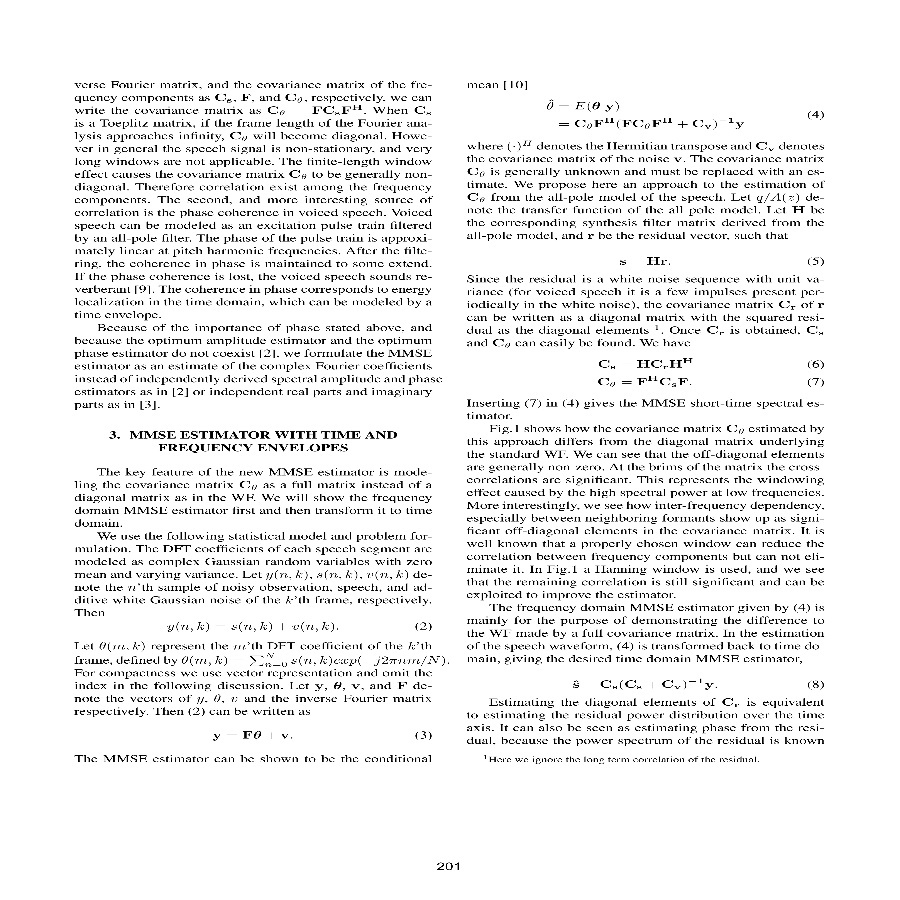eq: (544, 97, 748, 138), (158, 610, 337, 636), (564, 675, 716, 693), (591, 351, 695, 372), (208, 726, 291, 746), (594, 376, 688, 388), (613, 253, 671, 268)
